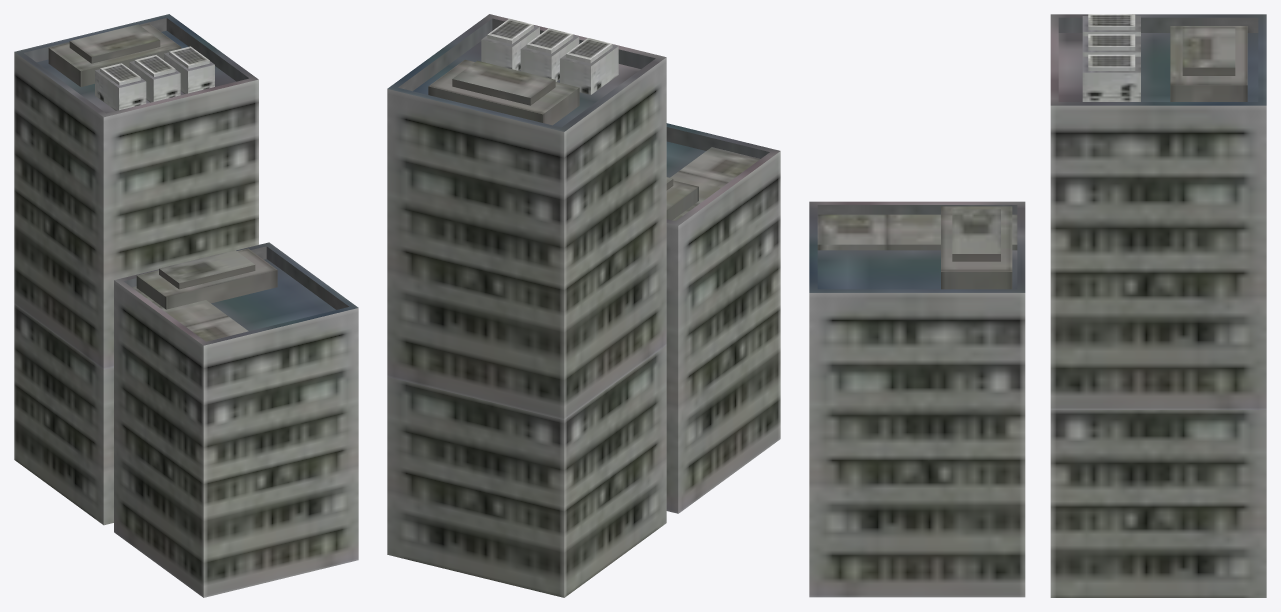
3 views of the same model, side by side, from view 1: azimuth 30°, elevation 25°; view 2: azimuth 150°, elevation 25°; view 3: azimuth 270°, elevation 25° (orthographic). The views are drawn at different scales.
Bounding box in the file's own units: 0.1448 × 0.3777 × 0.3063.
1 material, 1 textured.
